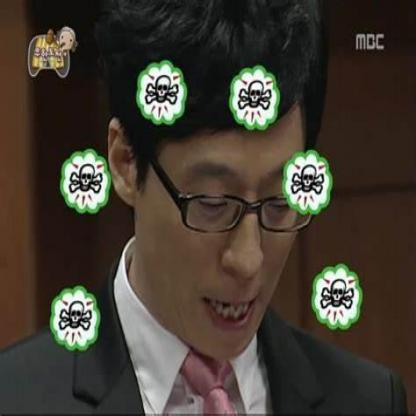skull: (316, 274, 357, 312), (66, 160, 105, 196), (236, 78, 274, 113), (57, 299, 95, 330), (145, 74, 180, 107), (289, 164, 326, 195)
